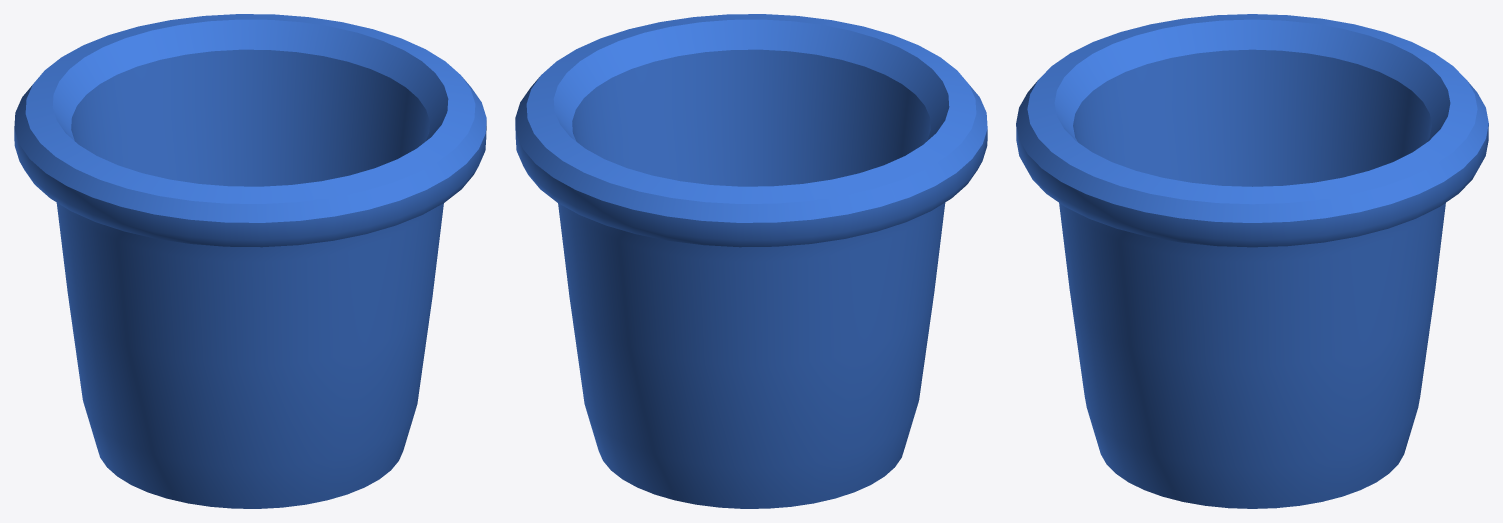
Rendered from Bucket.fbx.
3 renders of one model, left to right at view 1: azimuth 30°, elevation 25°; view 2: azimuth 150°, elevation 25°; view 3: azimuth 270°, elevation 25°, orthographic.
Visible parts, largest first — view 1: Plane; view 2: Plane; view 3: Plane.
Boxes of the visible parts, <box> form: Plane: <box>14,14,486,508</box>; Plane: <box>515,14,987,508</box>; Plane: <box>1016,14,1488,508</box>.
Bounding box in the file's own units: 461 × 461 × 374.
